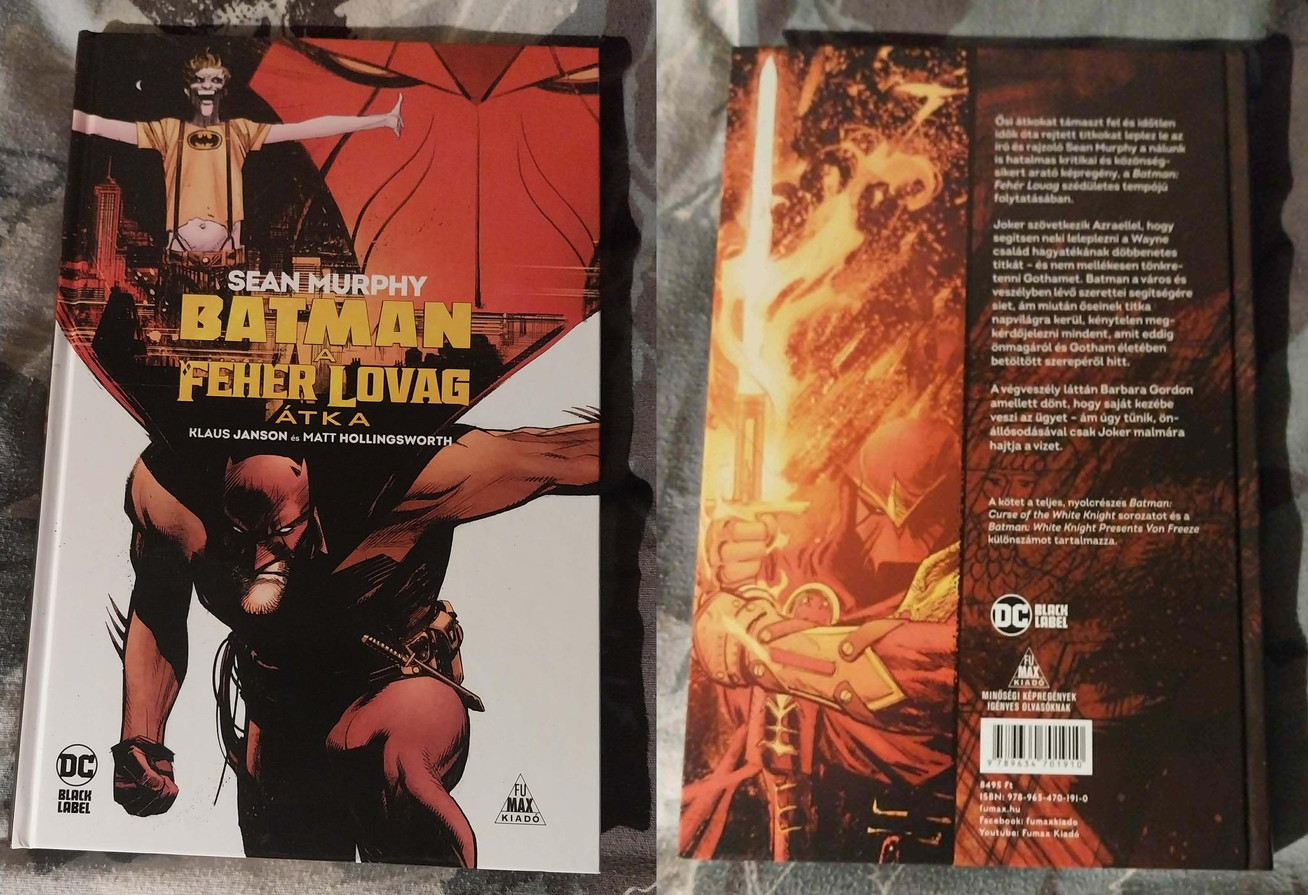comic: (680, 33, 1289, 873), (14, 31, 619, 871)
